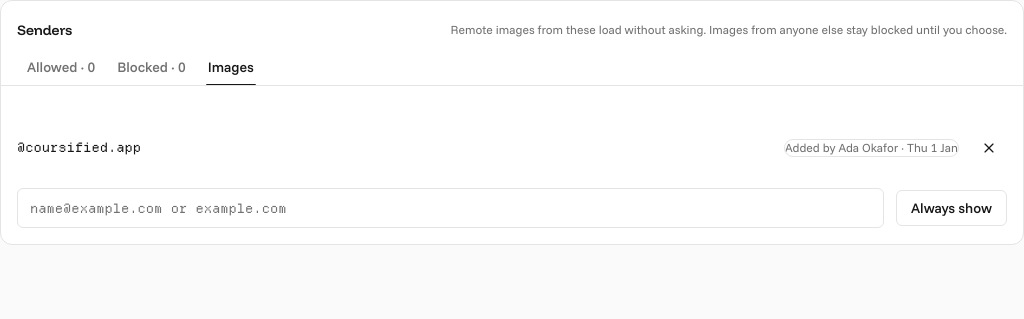
it: images always shown (HAL-3369) › lists the trusted senders and adds a domain as @domain
This screenshot has width=1024, height=319.
Expected: the text "@coursified.app" is shown, 17,139 -> 141,156
In the field named "Address or domain whose images always show": (450, 208) 17,188 -> 884,228, type "Example.com"
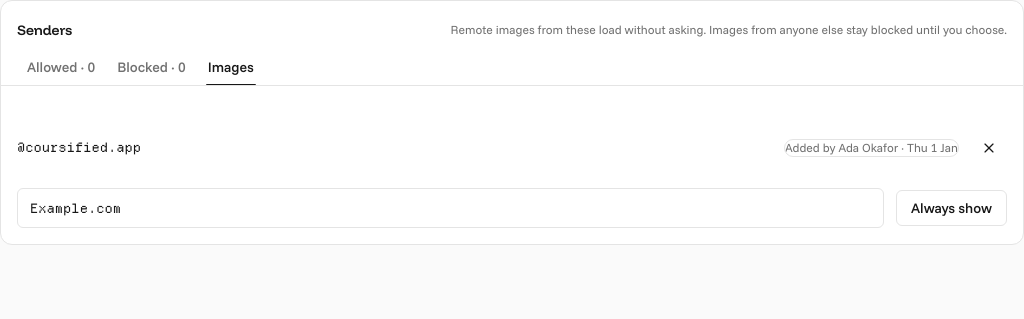
Click the button "Always show": (952, 208) 896,190 -> 1007,226
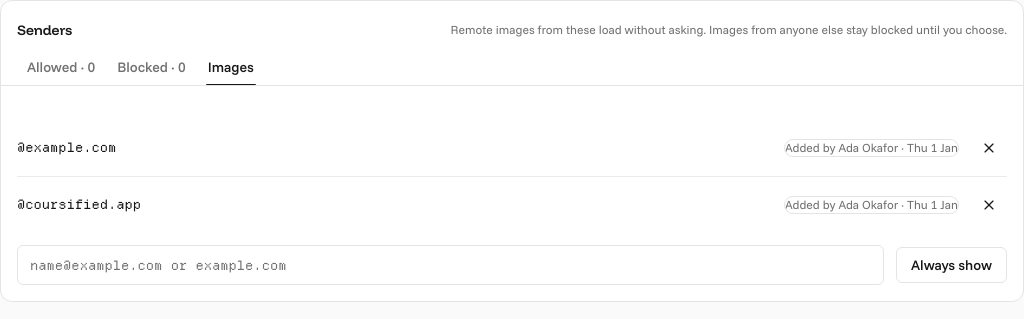
Expected: the text "@example.com" is shown, 17,139 -> 116,156
